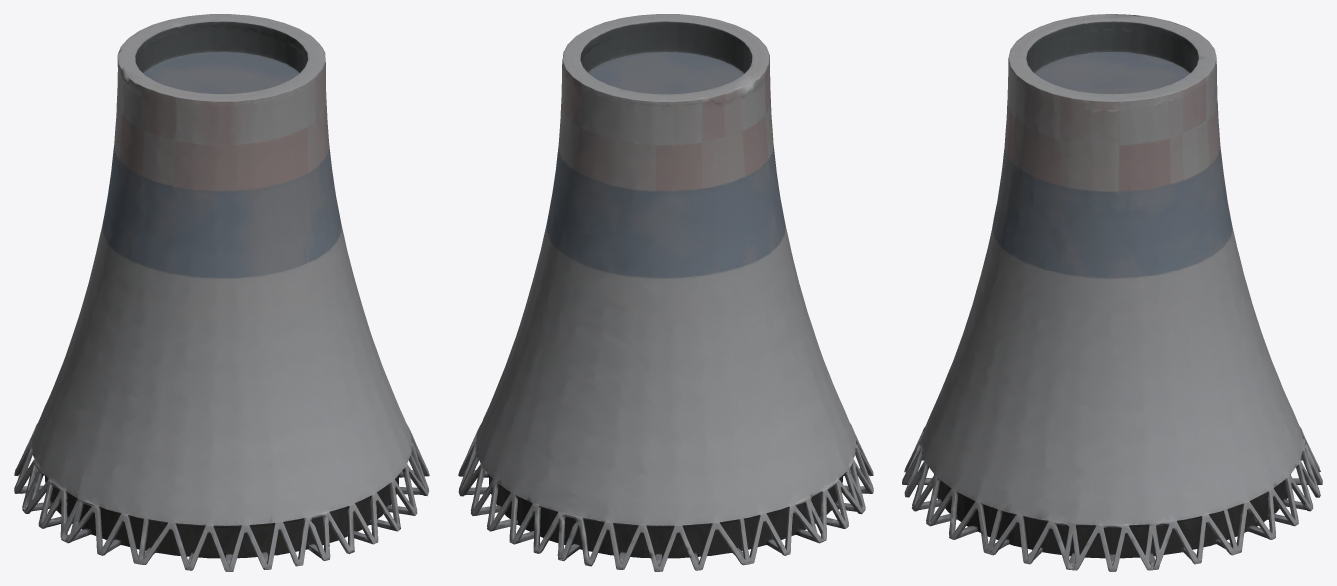
File: reactor.glb
3 renders of one model, left to right at view 1: azimuth 30°, elevation 25°; view 2: azimuth 150°, elevation 25°; view 3: azimuth 270°, elevation 25°, orthographic.
Parts seen in each view (by area): view 1: tripo_node_8fc0260c-428e-427b-95b8-40f606da0bd5; view 2: tripo_node_8fc0260c-428e-427b-95b8-40f606da0bd5; view 3: tripo_node_8fc0260c-428e-427b-95b8-40f606da0bd5.
Boxes of the visible parts, bbox=[...] form: tripo_node_8fc0260c-428e-427b-95b8-40f606da0bd5: bbox=[14, 14, 429, 571]; tripo_node_8fc0260c-428e-427b-95b8-40f606da0bd5: bbox=[458, 14, 873, 571]; tripo_node_8fc0260c-428e-427b-95b8-40f606da0bd5: bbox=[902, 14, 1322, 571].
Bounding box in the file's own units: 0.873 × 0.98 × 0.877.
Materials: 1 (1 with a texture image).
